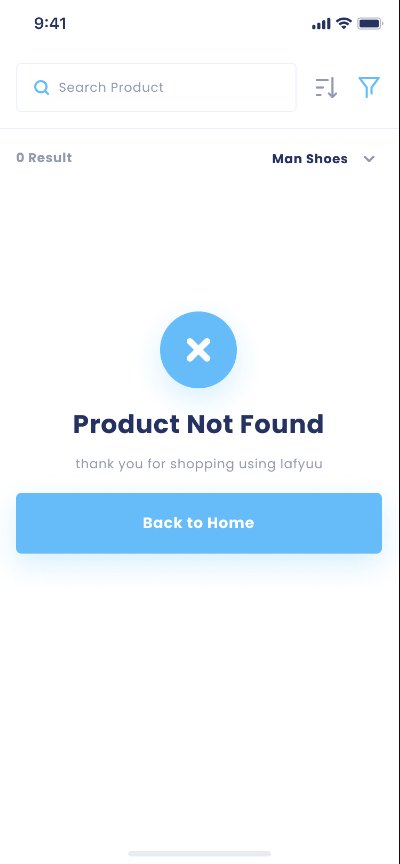Input: (13, 59, 299, 115)
